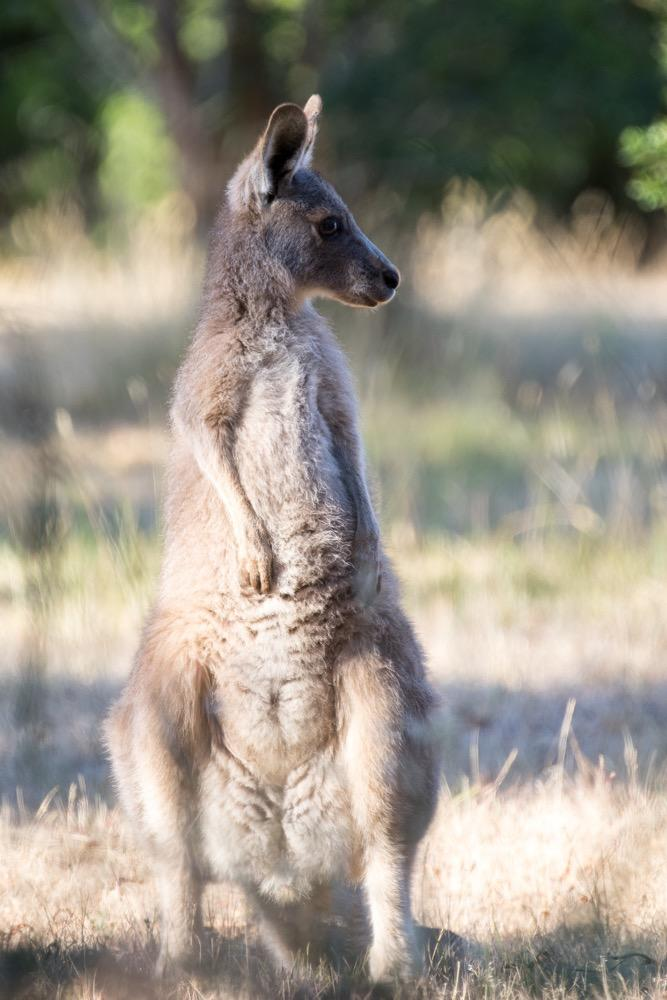Eastern grey kangaroo: (100, 94, 479, 1000)
